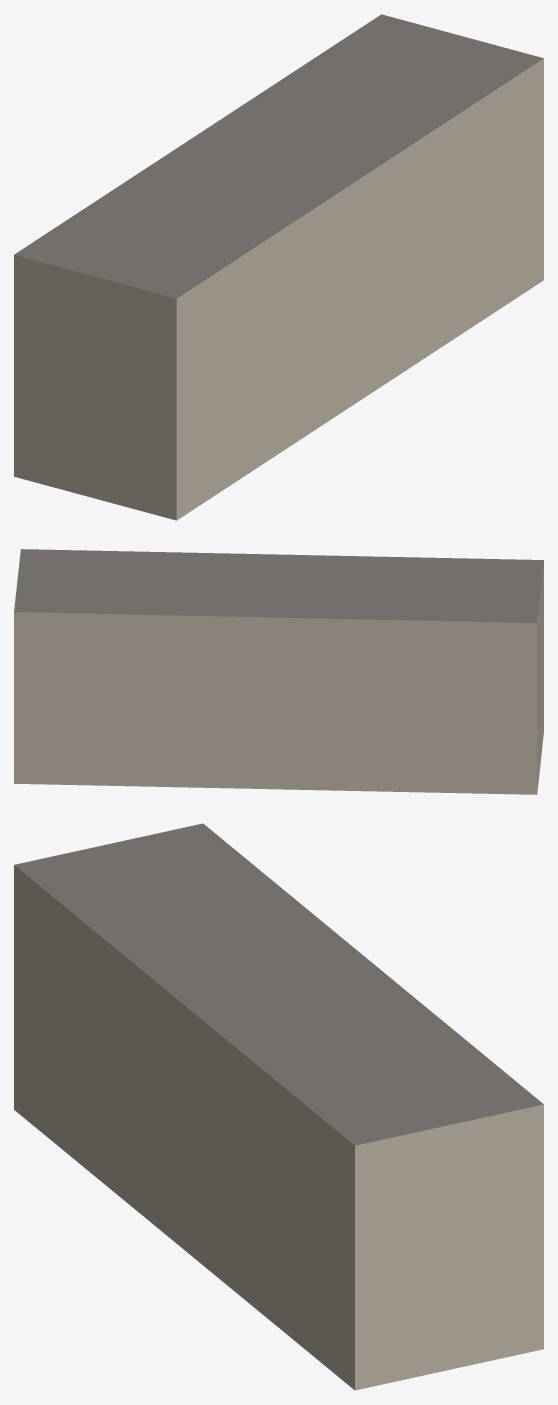
3 renders of one model, top to bottom at view 1: azimuth 30°, elevation 25°; view 2: azimuth 150°, elevation 25°; view 3: azimuth 270°, elevation 25°, orthographic. The views are drawn at different scales.
Parts seen in each view (by area): view 1: HP-w442026893; view 2: HP-w442026893; view 3: HP-w442026893.
Boxes of the visible parts, x1=… form: HP-w442026893: x1=14, y1=14, x2=543, y2=520; HP-w442026893: x1=14, y1=549, x2=543, y2=794; HP-w442026893: x1=14, y1=823, x2=543, y2=1390.
Size of the model in its own units: 50.82 by 18 by 35.31.
